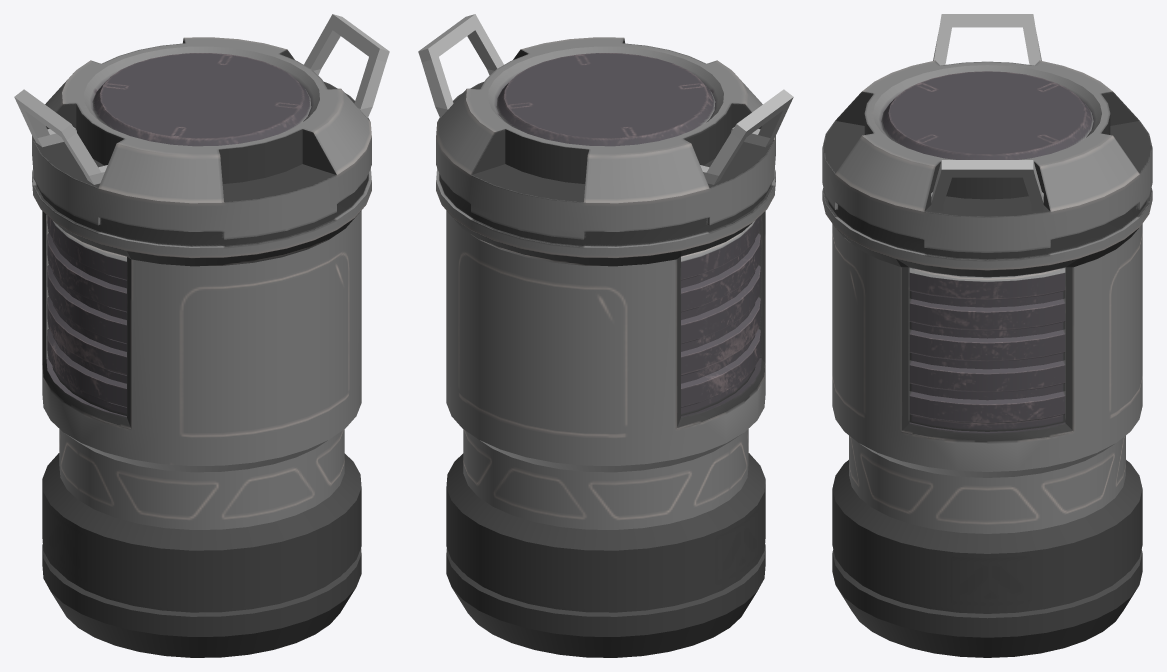
File: barrel.glb
The picture shows the model from 3 angles, left to right: view 1: azimuth 30°, elevation 25°; view 2: azimuth 150°, elevation 25°; view 3: azimuth 270°, elevation 25°; orthographic projection. The views are drawn at different scales.
Parts seen in each view (by area): view 1: Prop_Barrel1; view 2: Prop_Barrel1; view 3: Prop_Barrel1.
Boxes of the visible parts, left/top/right/bottom form: Prop_Barrel1: left=14, top=14, right=389, bottom=657; Prop_Barrel1: left=418, top=14, right=793, bottom=657; Prop_Barrel1: left=822, top=14, right=1152, bottom=657.
Bounding box in the file's own units: 0.722 × 1.11 × 0.6485.
1 material, 1 textured.
